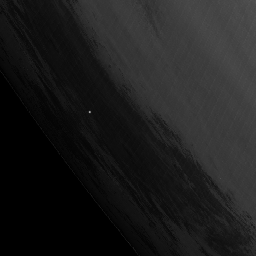Target: (87, 110, 92, 115)
